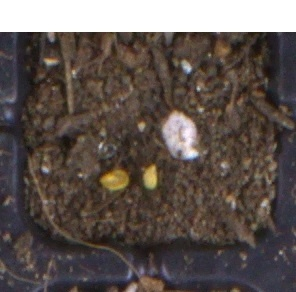chilli seed: (98, 169, 130, 191), (140, 163, 158, 190)
